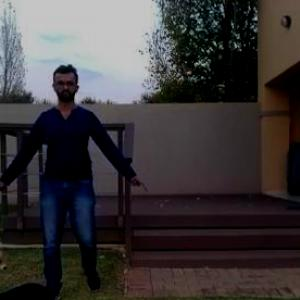land: (7, 74, 134, 293)
